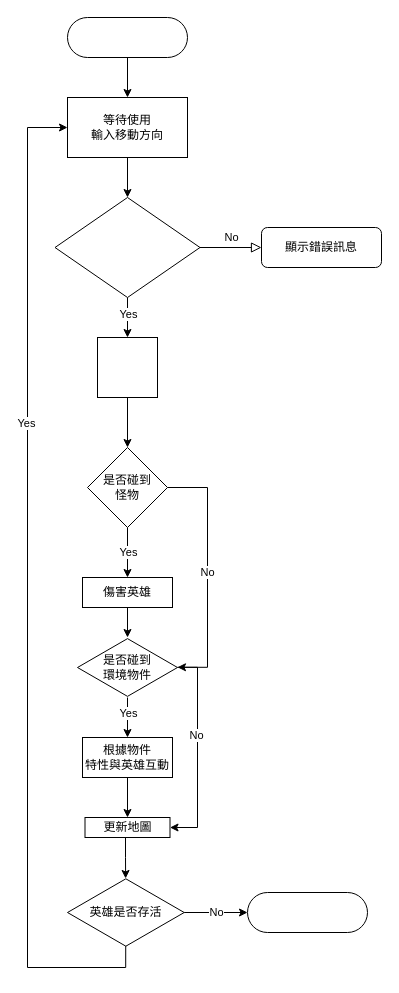
The diagram is 399 pixels wide and 993 high, and some of its shapes have lost their labels. The centre of each missing label's shape, as x and y in pixels:
"使用者輸入 是否合法與 移動方向合理性" goes at (127,247).
"移動" goes at (127,367).
"結束遊戲" goes at (307,912).
"開始遊戲" goes at (127,37).
